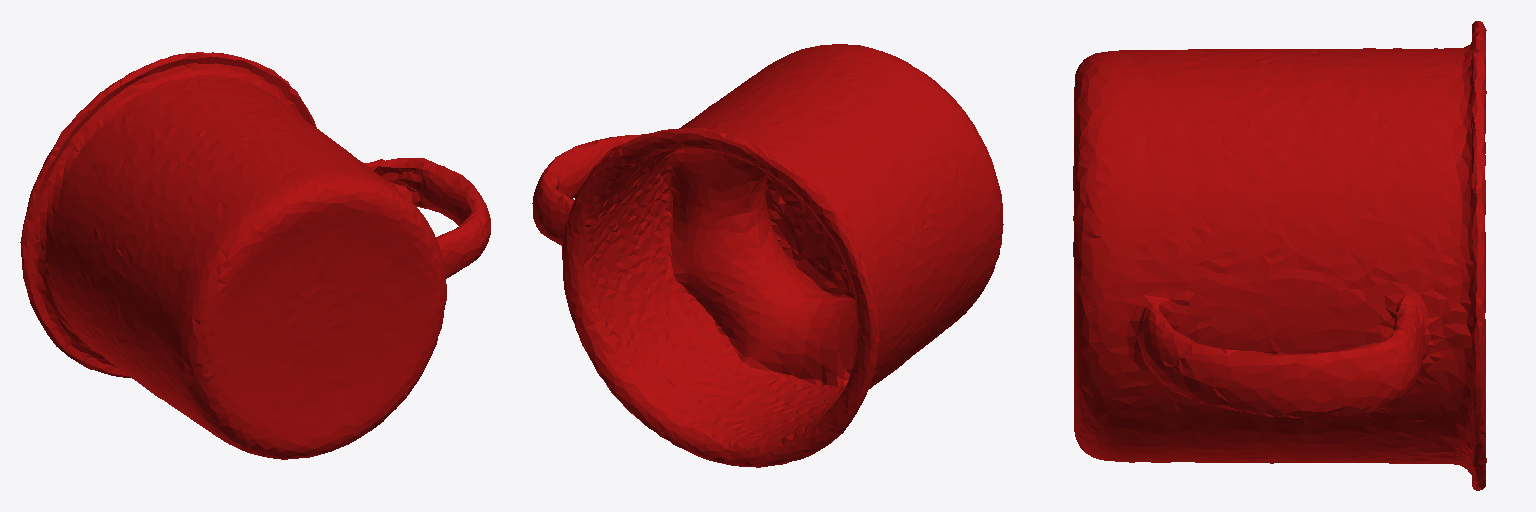
URDF robot description (mug):
<?xml version="1.0"?>
<robot name="mug">
  <link name="mug_base_link">
    <contact>
      <lateral_friction value="1.0"/>
      <spinning_friction value=".001"/>
    </contact>
    <inertial>
      <origin rpy="0 0 0" xyz="0 0.0405 0"/>
      <mass value="0.35"/>
      <inertia ixx="0.000363854" ixy="0" ixz="0" iyy="0.000074375" iyz="0" izz="0.000363854"/>
    </inertial>
    <visual>
      <origin rpy="0 0 0" xyz="0.0 0.0 0.0"/>
      <geometry>
        <!--<box size="0.10 0.018 0.018"/>-->
        <mesh filename="data/mug3.obj"/>
      </geometry>
      <material name="mugmat">
        <color rgba="0.7 0.1 0.1 1"/>
      </material>
    </visual>
    <collision>
      <origin rpy="0 0 0" xyz="0.0 0.0 0.0"/>
      <geometry>
        <!--<box size="0.10 0.018 0.018"/>-->
        <mesh filename="data/mug3.obj"/>
      </geometry>
    </collision>
  </link>
</robot>

--- What the picture shows (computed from the rendered views, not written in the file) ---
Views: 3 orthographic renders of the robot side by side, from view 1: azimuth 30°, elevation 25°; view 2: azimuth 150°, elevation 25°; view 3: azimuth 270°, elevation 25°.
Model mug with 1 links and 0 joints (none), rooted at mug_base_link, posed all joints at 0.
Visible links, largest first — view 1: mug_base_link; view 2: mug_base_link; view 3: mug_base_link.
Link boxes in pixels (x1,y1,x2,y2): mug_base_link: (20, 52, 490, 459); mug_base_link: (532, 44, 1003, 467); mug_base_link: (1073, 21, 1486, 490).
Bounding box of the posed robot: 0.117 × 0.0813 × 0.0931 m (x, y, z).
Meshes: 1 distinct files referenced, 1 mesh visuals loaded (1 OBJ).